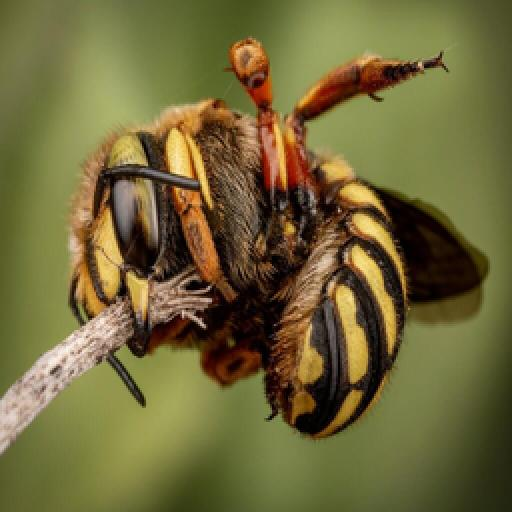insects: (65, 37, 482, 441)
